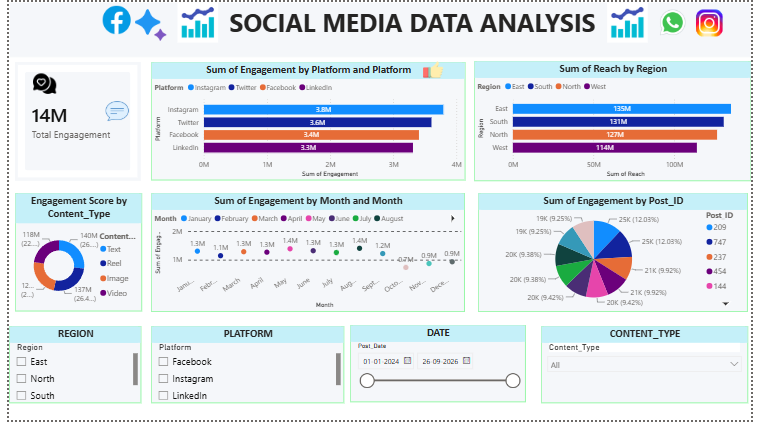

What the dashboard file says about the page in this screenshot:
{"tool":"powerbi","page":{"name":"Page 1","canvas":[1280,720],"ordinal":0},"visuals":[{"type":"textbox","box":[0,0,1280,96],"z":0},{"type":"cardVisual","fields":{"Data":["Sheet1.Total Engaagement"]},"box":[10.8,103.1,216.9,204.6],"z":1000},{"type":"barChart","fields":{"Series":["Sheet1.Platform"],"Category":["Sheet1.Platform"],"Y":["Sum(Sheet1.Engagement)"]},"box":[244.8,103,541.8,204.5],"z":2000},{"type":"barChart","title":"Sum of Reach by Region","fields":{"Y":["Sum(Sheet1.Reach)"],"Category":["Sheet1.Region"],"Series":["Sheet1.Region"]},"box":[801.7,101.7,478.3,206.7],"z":3000},{"type":"donutChart","fields":{"Category":["Sheet1.Content_Type"],"Y":["Sheet1.Engagement Score"]},"box":[10,330,218.6,204.3],"z":4000},{"type":"lineChart","fields":{"Y":["Sum(Sheet1.Engagement)"],"Category":["Sheet1.Post_Date.Variation.Date Hierarchy.Month"],"Series":["Sheet1.Post_Date.Variation.Date Hierarchy.Month"]},"box":[244.4,330.2,541.3,204.8],"z":5000},{"type":"pieChart","fields":{"Category":["Sheet1.Post_ID"],"Y":["Sum(Sheet1.Engagement)"]},"box":[808.3,330,465,205],"z":6000},{"type":"slicer","title":"REGION","fields":{"Values":["Sheet1.Region"]},"box":[0,558.3,228.3,133.3],"z":7000},{"type":"slicer","title":"PLATFORM","fields":{"Values":["Sheet1.Platform"]},"box":[245,558.3,333.3,133.3],"z":8000},{"type":"slicer","title":"DATE","fields":{"Values":["Sheet1.Post_Date"]},"box":[588.3,557.6,302.9,133.2],"z":9000},{"type":"slicer","title":"CONTENT_TYPE","fields":{"Values":["Sheet1.Content_Type"]},"box":[916.7,558.3,356.7,133.3],"z":10000},{"type":"image","box":[1095,8.3,98.3,53.3],"z":11000},{"type":"image","box":[205,8.3,78.3,61.7],"z":12000},{"type":"image","box":[21.7,116.7,78.3,46.7],"z":13000},{"type":"image","box":[693.3,96.7,75,40],"z":14000},{"type":"image","box":[165,163.3,41.7,46.7],"z":15000},{"type":"image","box":[165,0,320,70],"z":16000},{"type":"image","box":[948.3,0,235,70],"z":17000},{"type":"image","box":[111.7,0,146.7,61.7],"z":18000},{"type":"image","box":[1168.3,5,76.7,61.7],"z":19000}]}

Visuals, with their boxes in screenshot pixels (x1, y1, x2, y2), scaled from the page's 1280x720 canvas onto the 766x437 screenshot:
textbox: crop(0, 0, 765, 58)
cardVisual - Sheet1.Total Engaagement: crop(6, 63, 136, 187)
barChart - Sheet1.Platform x Sheet1.Platform: crop(146, 63, 471, 187)
"Sum of Reach by Region" barChart: crop(480, 62, 765, 187)
donutChart - Sheet1.Content_Type x Sheet1.Engagement Score: crop(6, 200, 137, 324)
lineChart - Sum(Sheet1.Engagement) x Sheet1.Post_Date.Variation.Date Hierarchy.Month: crop(146, 200, 470, 325)
pieChart - Sheet1.Post_ID x Sum(Sheet1.Engagement): crop(484, 200, 762, 325)
"REGION" slicer: crop(0, 339, 137, 420)
"PLATFORM" slicer: crop(147, 339, 346, 420)
"DATE" slicer: crop(352, 338, 533, 419)
"CONTENT_TYPE" slicer: crop(549, 339, 762, 420)
image: crop(655, 5, 714, 37)
image: crop(123, 5, 170, 42)
image: crop(13, 71, 60, 99)
image: crop(415, 59, 460, 83)
image: crop(99, 99, 124, 127)
image: crop(99, 0, 290, 42)
image: crop(567, 0, 708, 42)
image: crop(67, 0, 155, 37)
image: crop(699, 3, 745, 40)
